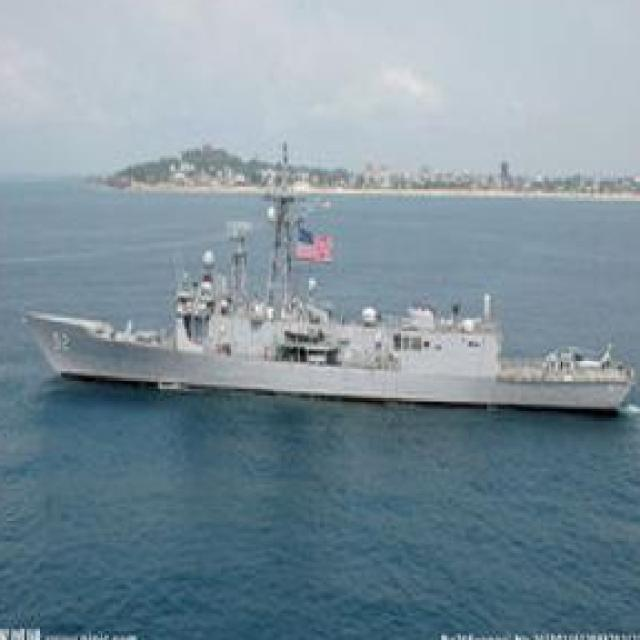navalvessels: (22, 169, 640, 418)
